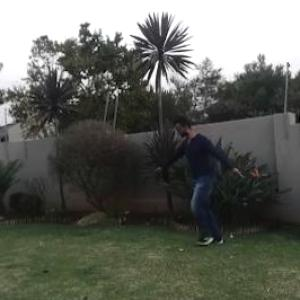land: (136, 102, 270, 266)
